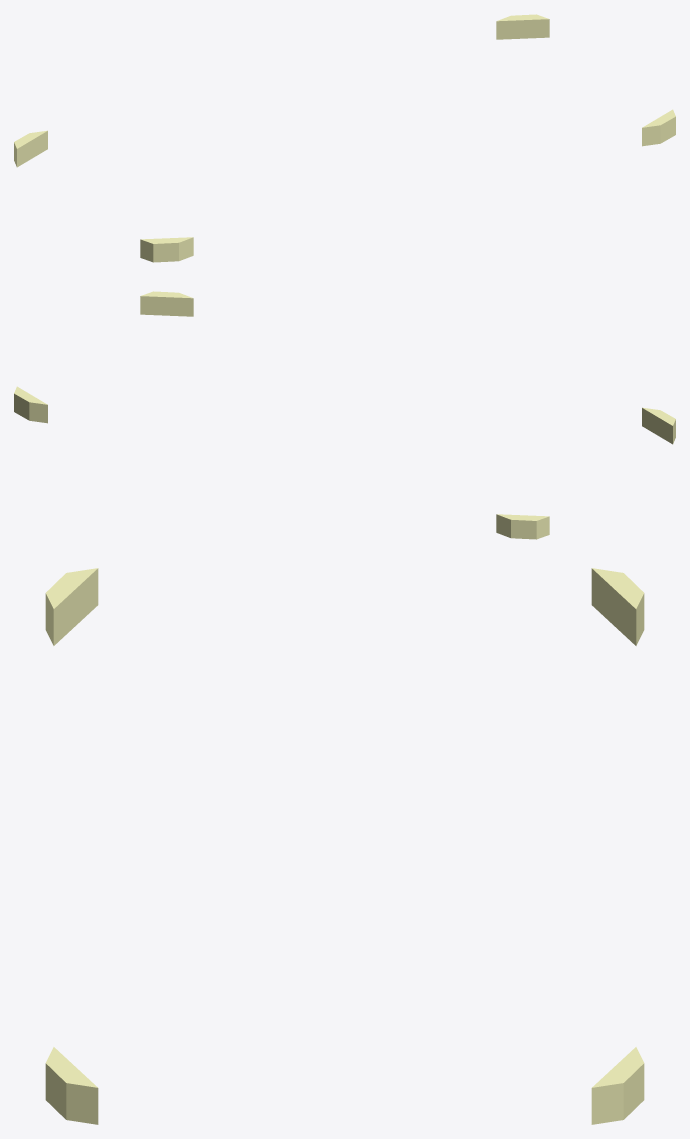
Rendered from slingshot_TestTable01_kgunn.fbx.
3 views of the same model, one above another, from view 1: azimuth 30°, elevation 25°; view 2: azimuth 150°, elevation 25°; view 3: azimuth 270°, elevation 25° (orthographic). The views are drawn at different scales.
Visible parts, largest first — view 1: slingshot02_GEO_TestTable01_kgunn, slingshot03_GEO_TestTable01_kgunn, slingshot01_GEO_TestTable01_kgunn, slingshot04_GEO_TestTable01_kgunn; view 2: slingshot01_GEO_TestTable01_kgunn, slingshot04_GEO_TestTable01_kgunn, slingshot02_GEO_TestTable01_kgunn, slingshot03_GEO_TestTable01_kgunn; view 3: slingshot01_GEO_TestTable01_kgunn, slingshot02_GEO_TestTable01_kgunn, slingshot03_GEO_TestTable01_kgunn, slingshot04_GEO_TestTable01_kgunn.
Part boxes in pixels (left/top/right/bottom): slingshot02_GEO_TestTable01_kgunn: left=140, top=237, right=193, bottom=262; slingshot03_GEO_TestTable01_kgunn: left=496, top=14, right=549, bottom=39; slingshot01_GEO_TestTable01_kgunn: left=14, top=130, right=47, bottom=167; slingshot04_GEO_TestTable01_kgunn: left=642, top=109, right=675, bottom=146; slingshot01_GEO_TestTable01_kgunn: left=496, top=514, right=549, bottom=539; slingshot04_GEO_TestTable01_kgunn: left=140, top=291, right=193, bottom=316; slingshot02_GEO_TestTable01_kgunn: left=642, top=407, right=675, bottom=444; slingshot03_GEO_TestTable01_kgunn: left=14, top=386, right=47, bottom=423; slingshot01_GEO_TestTable01_kgunn: left=591, top=568, right=644, bottom=645; slingshot02_GEO_TestTable01_kgunn: left=45, top=568, right=98, bottom=645; slingshot03_GEO_TestTable01_kgunn: left=591, top=1047, right=644, bottom=1124; slingshot04_GEO_TestTable01_kgunn: left=45, top=1047, right=98, bottom=1124.
Size of the model in its own units: 19.92 by 0.6611 by 9.7.
